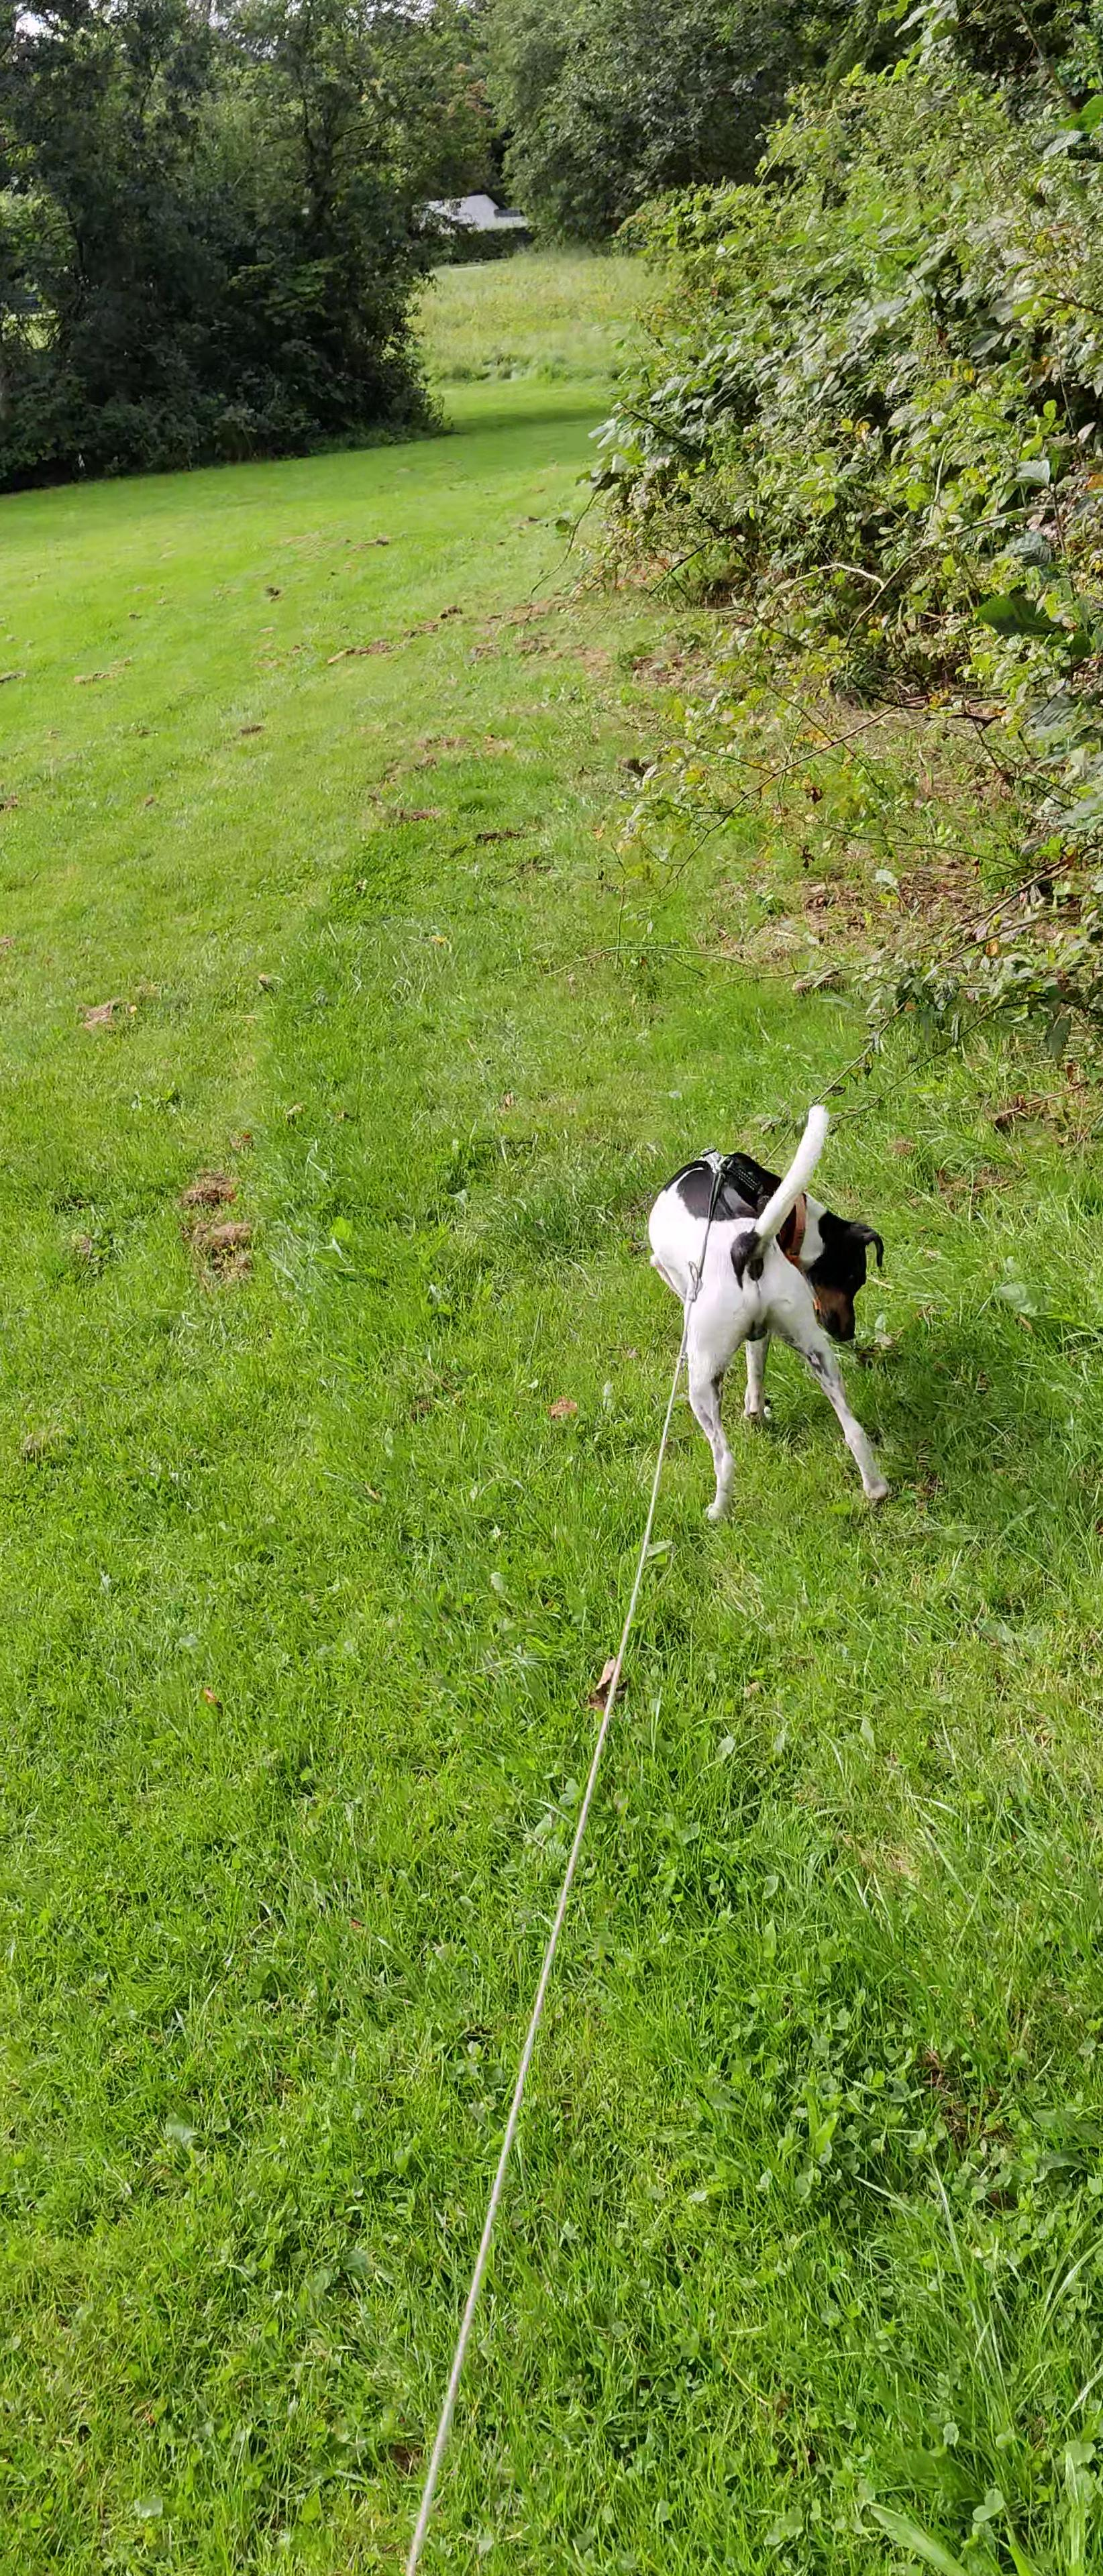Dog: (638, 1097, 902, 1526)
